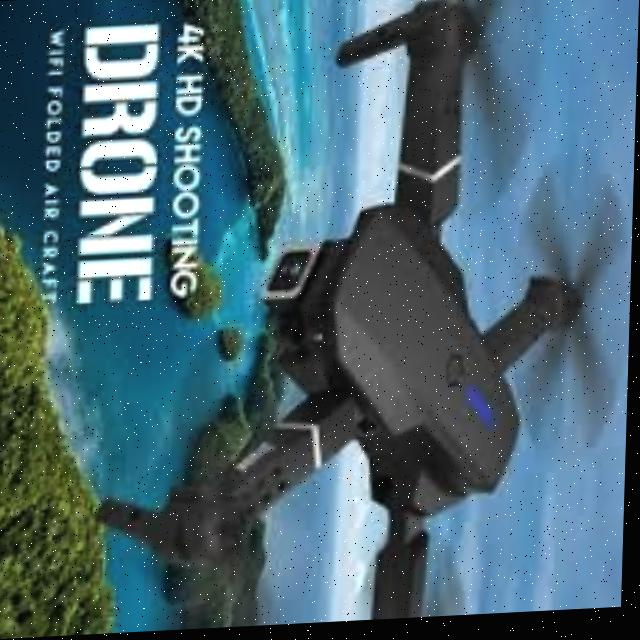drone: (85, 0, 640, 636)
